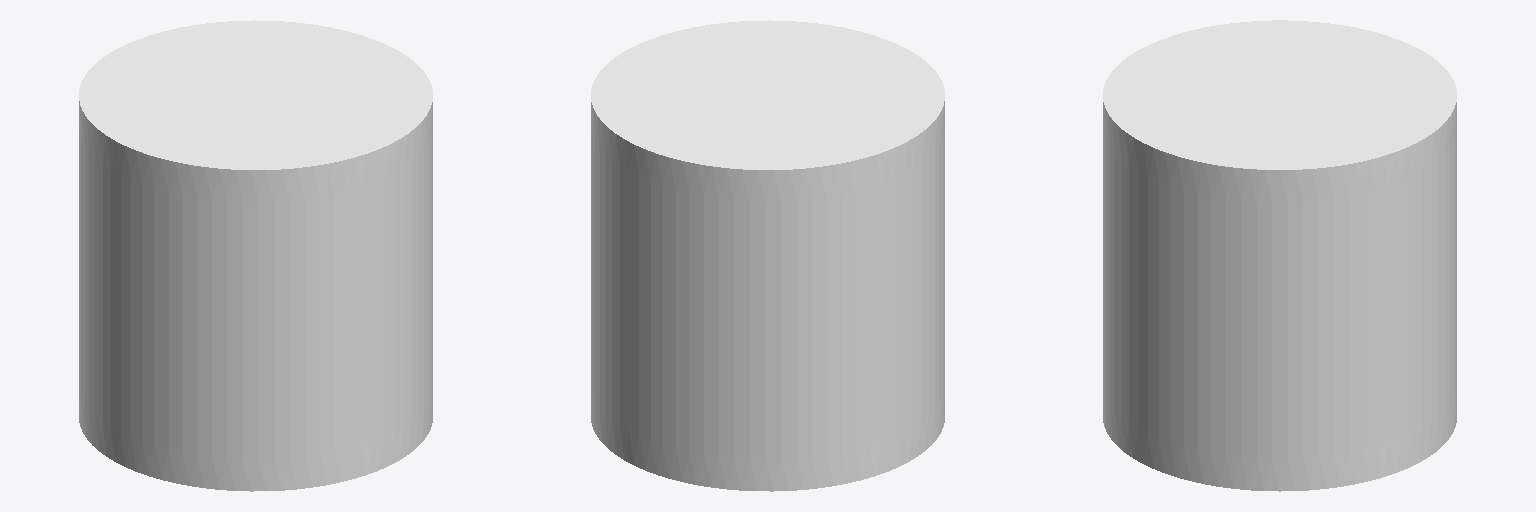
robot.urdf — 000_cylinder:
<robot name="000_cylinder">
	<link name="_name">
		<visual>
			<origin xyz="0 0 -0.04" rpy="0 0 0" />
			<geometry>
				<mesh filename="000_cylinder/000_cylinder.stl" scale="1 1 1" />
			</geometry>
			<material name="texture">
				<color rgba="1.0 1.0 1.0 1.0" />
			</material>
		</visual>
		<collision>
			<geometry>
				<mesh filename="000_cylinder/000_cylinder.stl" scale="1 1 1" />
			</geometry>
		<origin xyz="0 0 -0.04" rpy="0 0 0" /></collision>
		<inertial>
			<mass value="1.0" />
			<inertia ixx="1.0" ixy="0.0" ixz="0.0" iyy="1.0" iyz="0.0" izz="1.0" />
		</inertial>
	</link>
</robot>

--- What the picture shows (computed from the rendered views, not written in the file) ---
The picture shows the robot from 3 angles, left to right: view 1: azimuth 30°, elevation 25°; view 2: azimuth 150°, elevation 25°; view 3: azimuth 270°, elevation 25°; orthographic projection.
Robot: 000_cylinder — 1 links, 0 joints (none); root link _name; default pose: all joints at 0.
Links seen in each view (by area): view 1: _name; view 2: _name; view 3: _name.
Boxes of the visible links, x1,y1,x2,y2 form: _name: [79, 20, 432, 491]; _name: [591, 20, 944, 491]; _name: [1103, 20, 1456, 491].
Size in the robot's own frame: 0.08 by 0.08 by 0.08 metres.
Meshes: 1 distinct files referenced, 1 mesh visuals loaded (1 binary STL).